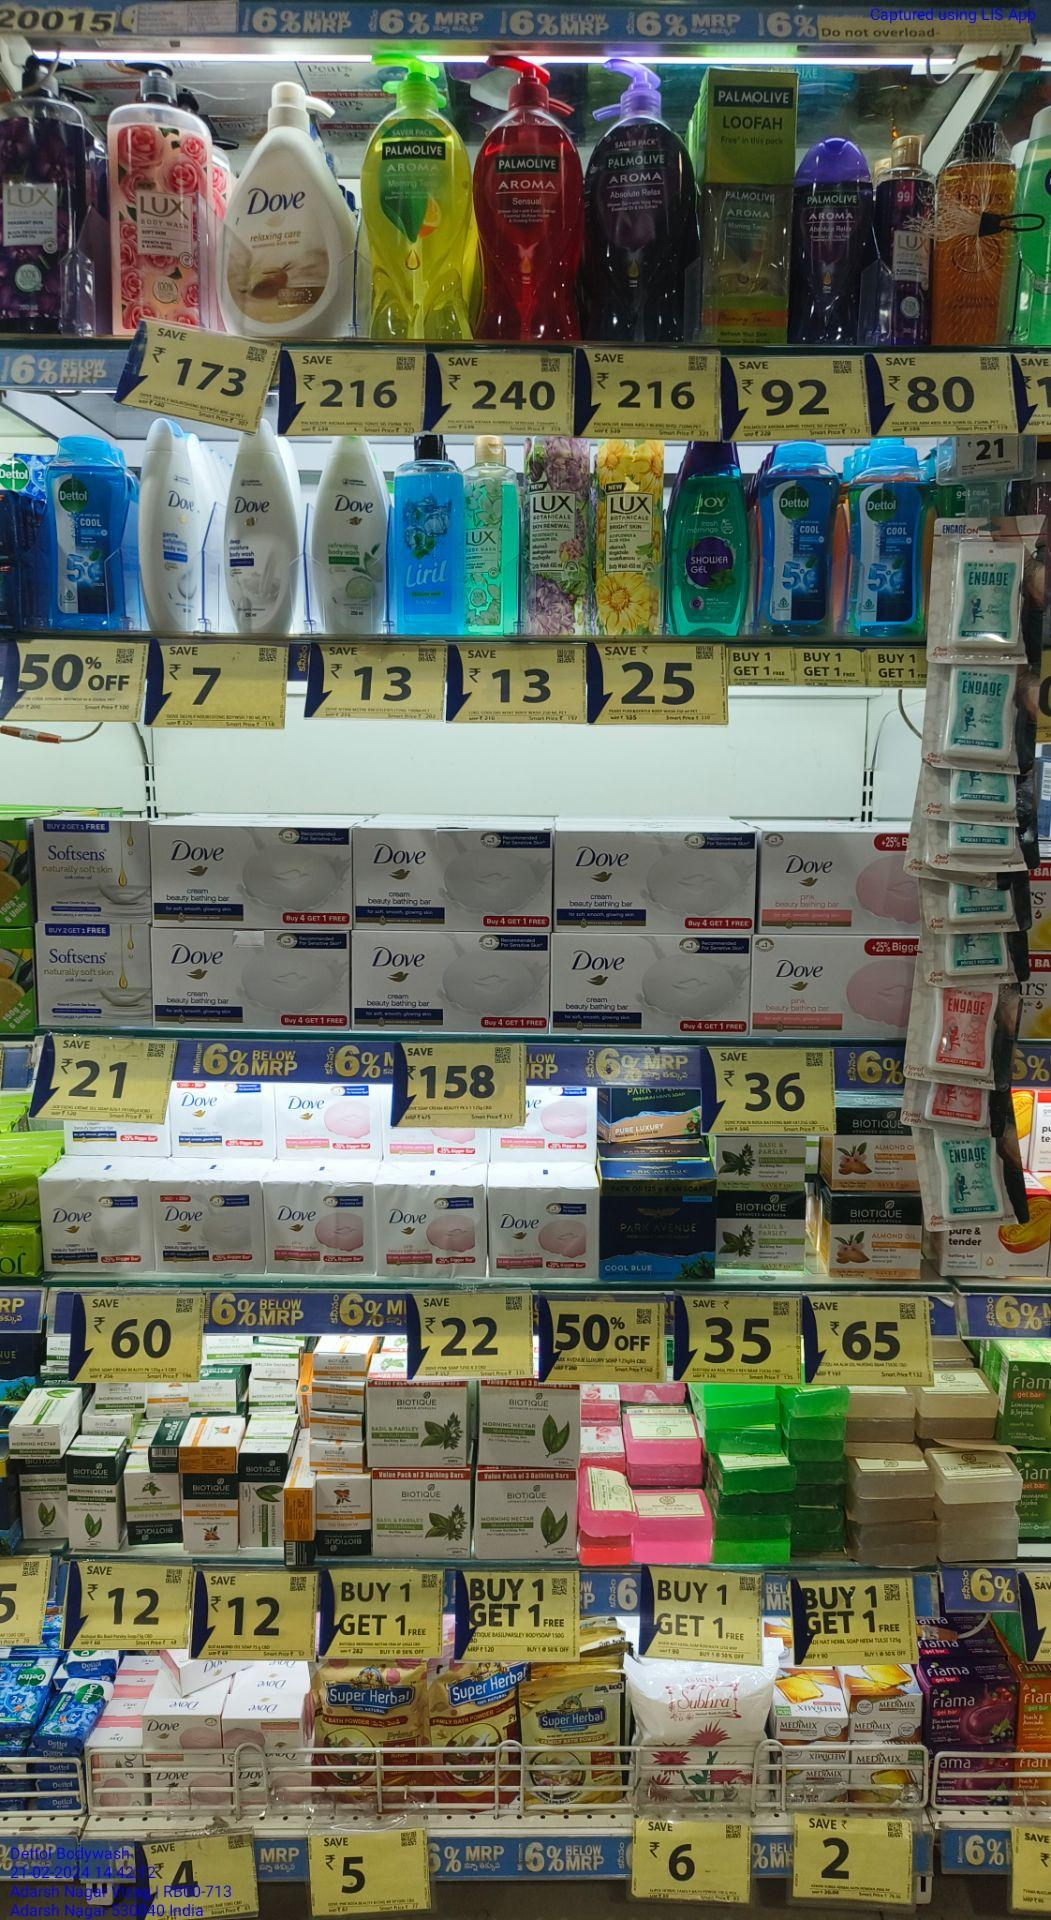Dettol_Bodywash_Cool: (44, 435, 129, 631), (756, 441, 841, 635), (841, 442, 924, 640)
Dove_Deep_Moisture_Body_Wash_250ML: (224, 430, 300, 634)
Dove_Gentle_Exfoliating_Body_Wash_250ML: (136, 417, 203, 631)
Dove_Refreshing_Body_Wash_250ML: (311, 436, 390, 633)
Joy_Shower_Gel_Mint_and_Eucalyptus_250ML: (668, 441, 748, 634)
Liril_Cooling_Mint_Body_Wash_250ML: (391, 433, 461, 633)
Lux_Black_Orchid_Scent_and_Juniper_Oil_Body_Wash_245ML: (876, 133, 933, 345)
Lux_Body_Wash_Skin_Detox_Freesia_Scent_and_Alove_Vera_245ML: (462, 435, 518, 634)
Palmolive_Aroma_Relax_250ML: (793, 136, 874, 343)
